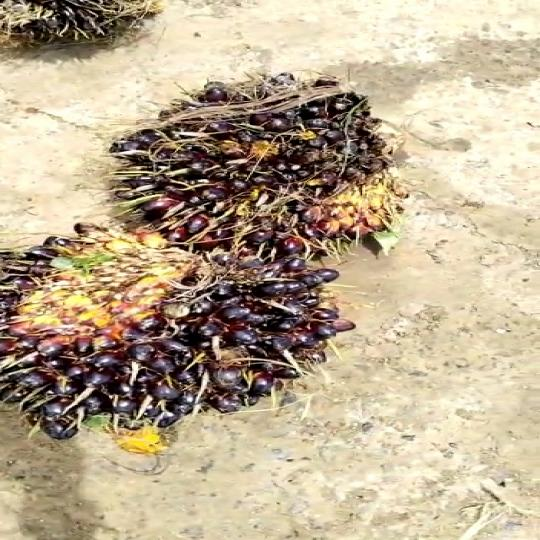mentah: (0, 220, 360, 455), (121, 56, 422, 260)
